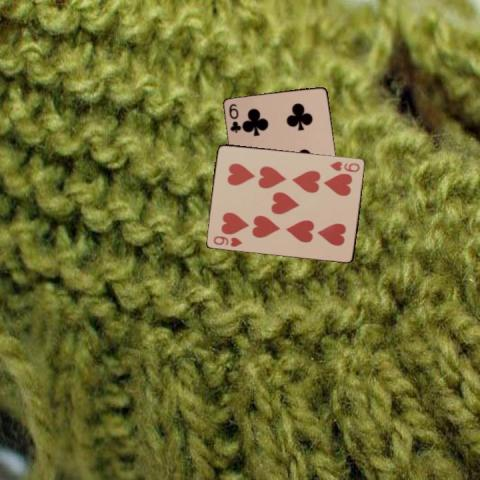6c: (226, 101, 243, 134)
9h: (328, 158, 361, 173), (211, 233, 244, 248)
